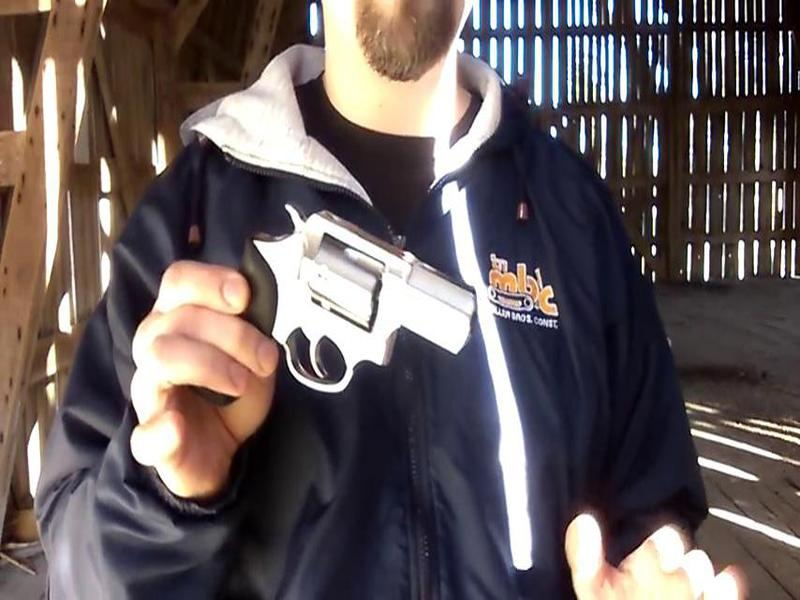Revolver: (223, 198, 487, 402)
